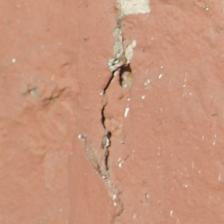Crack: (44, 13, 98, 199)
